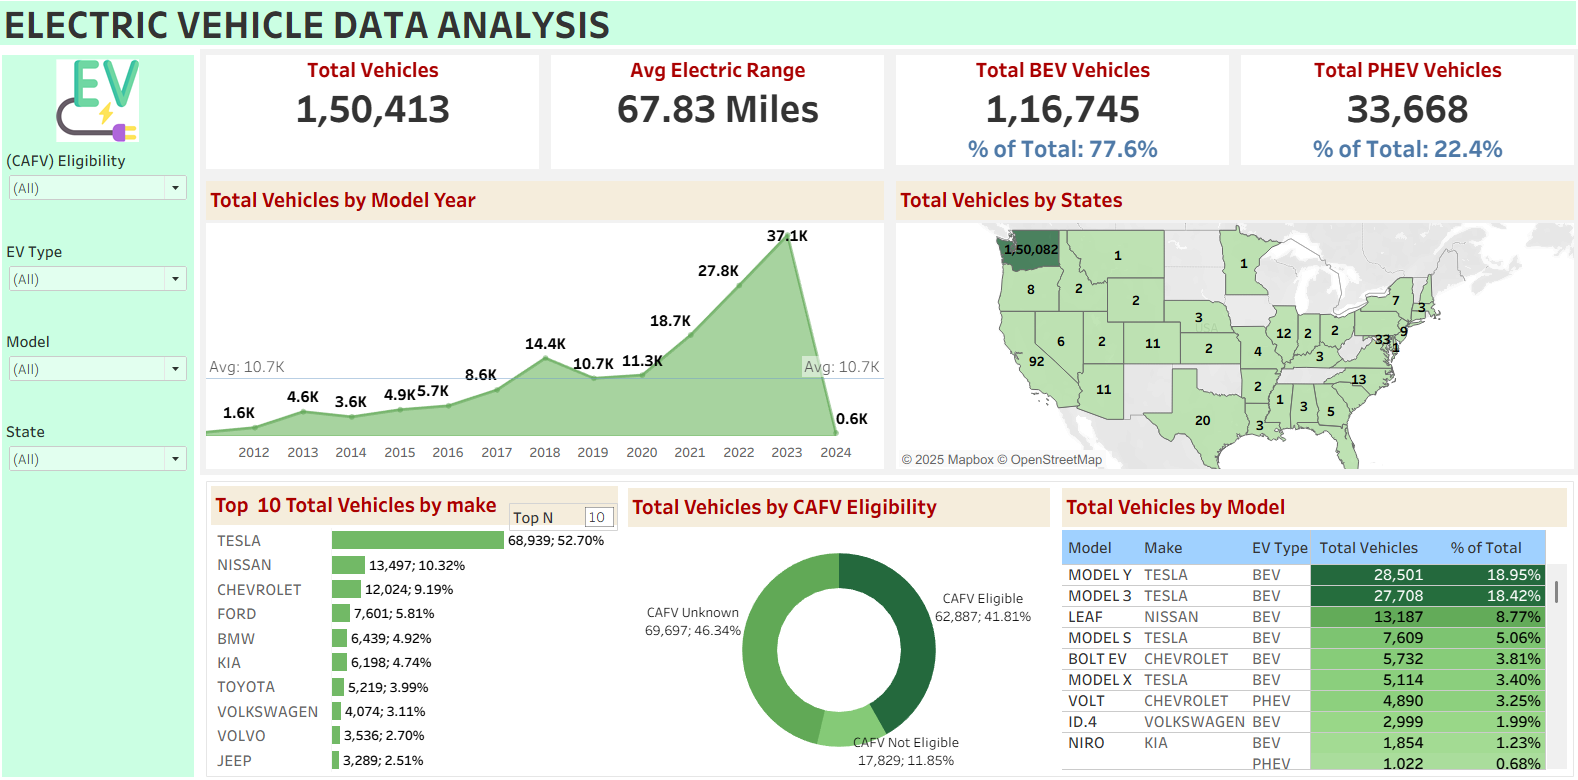

What the dashboard file says about the page in this screenshot:
{"tool":"tableau","page":{"name":"Dashboard 1","canvas":[1000,1000],"units":"permille","ordinal":0},"visuals":[{"type":"title","box":[5,10,990,65]},{"type":"worksheet","title":"Total Vehicles","mark":"Automatic","box":[132.5,74.8,215.6,145.9]},{"type":"worksheet","title":"Avg Electric Range","mark":"Automatic","box":[348.1,74.8,215.6,145.9]},{"type":"worksheet","title":"Total BEV Vehicles","mark":"Automatic","box":[563.8,74.8,215.6,145.9]},{"type":"worksheet","title":"Total PHEV Vehicles","mark":"Automatic","box":[779.4,74.8,215.6,145.9]},{"type":"image","param":"Image/ev.png","box":[8.8,82.3,120,113.5]},{"type":"filter","title":"Total Vehicles by Model Year","param":"[federated.07msm410z6jthh1cagm980ca8i95].[none:Clean Alternative Fuel Vehicle (C","box":[8.8,195.8,120,113.5]},{"type":"worksheet","title":"Total Vehicles by Model Year","mark":"Area","rows":["Calculation_796855681162264576","Calculation_796855681162264576"],"cols":["Model Year"],"box":[132.3,220.7,431.4,385.3]},{"type":"worksheet","title":"Total Vehicles by States","mark":"Multipolygon","box":[563.8,220.7,431.2,385.3]},{"type":"filter","title":"Total Vehicles by Model Year","param":"[federated.07msm410z6jthh1cagm980ca8i95].[none:Electric Vehicle Type:nk]","box":[8.8,309.2,120,112.2]},{"type":"filter","title":"Total Vehicles by Model Year","param":"[federated.07msm410z6jthh1cagm980ca8i95].[none:Model:nk]","box":[8.8,421.4,120,112.2]},{"type":"filter","title":"Total Vehicles by Model Year","param":"[federated.07msm410z6jthh1cagm980ca8i95].[none:State:nk]","box":[8.8,533.7,120,112.2]},{"type":"worksheet","title":"Top  10 Total Vehicles by make","mark":"Automatic","rows":["Make"],"cols":["Calculation_796855681162264576"],"box":[136.7,614.7,259.4,366.6]},{"type":"worksheet","title":"Total Vehicles by CAFV Eligibility","mark":"Pie","rows":["Calculation_796855681191202823","Calculation_796855681191202823"],"box":[396.1,614.7,271.4,366.6]},{"type":"worksheet","title":"Total Vehicles by Model","mark":"Square","rows":["Model","Make","Electric Vehicle Type"],"box":[667.5,614.7,323.1,366.6]},{"type":"parameter","param":"[Parameters].[Parameter 1]","box":[325.6,640.9,68.1,34.9]},{"type":"blank","box":[8.8,645.9,120,112.2]},{"type":"blank","box":[8.8,758.1,120,112.2]},{"type":"blank","box":[8.8,870.3,120,112.2]}]}

Visuals, with their boxes on the dashboard's canvas, which has no fixed pixel size, in thousandths of its width and height (x1, y1, x2, y2). These are canvas units, not pixel positions in the 1578x780 screenshot, which may show the page scaled, cropped or inside an application window:
title: BBox(5, 10, 995, 75)
"Total Vehicles" worksheet: BBox(132, 75, 348, 221)
"Avg Electric Range" worksheet: BBox(348, 75, 564, 221)
"Total BEV Vehicles" worksheet: BBox(564, 75, 779, 221)
"Total PHEV Vehicles" worksheet: BBox(779, 75, 995, 221)
image: BBox(9, 82, 129, 196)
"Total Vehicles by Model Year" filter: BBox(9, 196, 129, 309)
"Total Vehicles by Model Year" worksheet (Area marks): BBox(132, 221, 564, 606)
"Total Vehicles by States" worksheet (Multipolygon marks): BBox(564, 221, 995, 606)
"Total Vehicles by Model Year" filter: BBox(9, 309, 129, 421)
"Total Vehicles by Model Year" filter: BBox(9, 421, 129, 534)
"Total Vehicles by Model Year" filter: BBox(9, 534, 129, 646)
"Top  10 Total Vehicles by make" worksheet: BBox(137, 615, 396, 981)
"Total Vehicles by CAFV Eligibility" worksheet (Pie marks): BBox(396, 615, 668, 981)
"Total Vehicles by Model" worksheet (Square marks): BBox(668, 615, 991, 981)
parameter: BBox(326, 641, 394, 676)
blank: BBox(9, 646, 129, 758)
blank: BBox(9, 758, 129, 870)
blank: BBox(9, 870, 129, 982)
